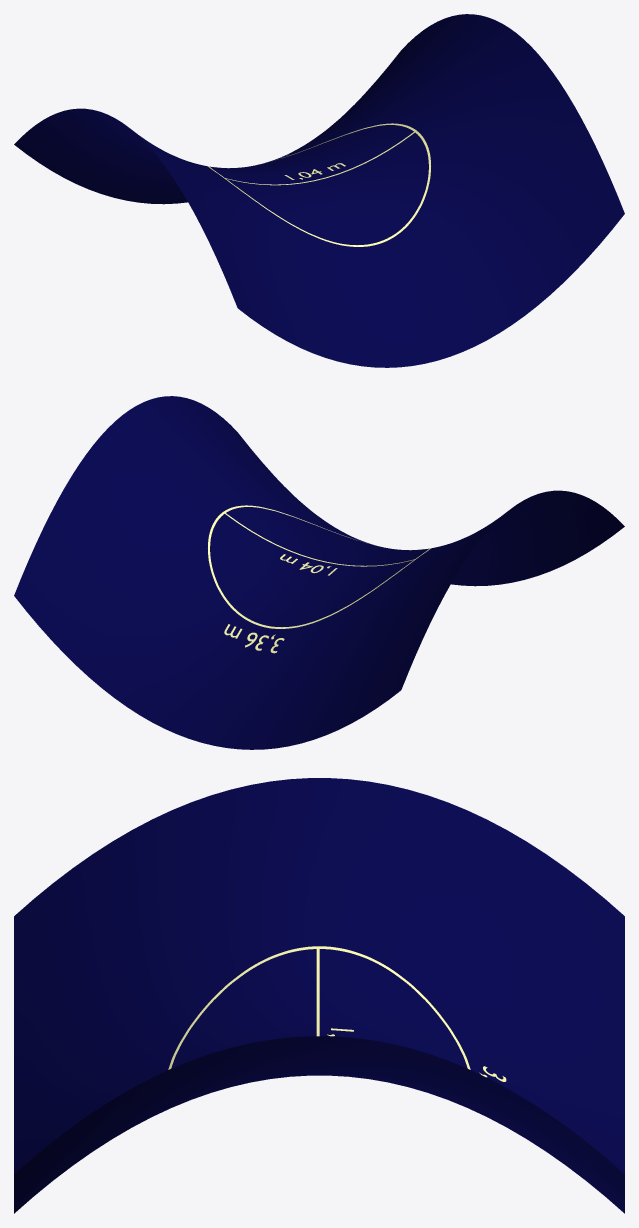
The model's file is paraboloide_hiperbolico.glb.
3 views of the same model, one above another, from view 1: azimuth 30°, elevation 25°; view 2: azimuth 150°, elevation 25°; view 3: azimuth 270°, elevation 25° (orthographic). The views are drawn at different scales.
Visible parts, largest first — view 1: parabolóide, circunferência; view 2: parabolóide, circunferência; view 3: parabolóide, circunferência.
Boxes of the visible parts, box(x1,y1,x2,y2) form: parabolóide: box(14, 14, 624, 367); circunferência: box(208, 123, 430, 246); parabolóide: box(14, 396, 624, 749); circunferência: box(208, 505, 430, 628); parabolóide: box(14, 778, 624, 1213); circunferência: box(168, 946, 470, 1069).
Size of the model in its own units: 2 by 0.999 by 2.
